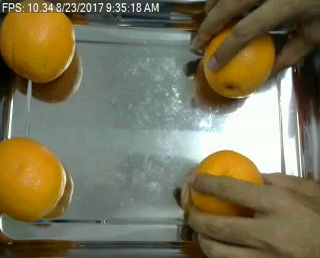Orange: (1, 1, 76, 83), (1, 136, 65, 221)
